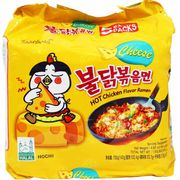Snack: (2, 1, 178, 180)
